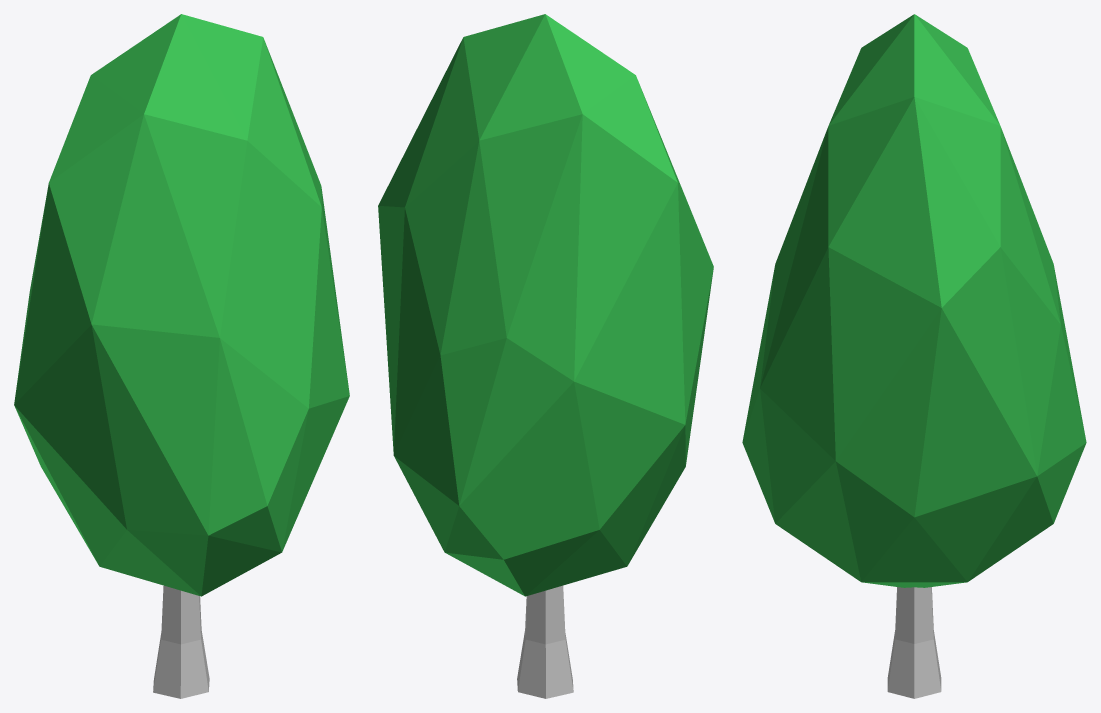
The model's file is tree_1.fbx.
3 renders of one model, left to right at view 1: azimuth 30°, elevation 25°; view 2: azimuth 150°, elevation 25°; view 3: azimuth 270°, elevation 25°, orthographic.
Visible parts, largest first — view 1: bark.000; view 2: bark.000; view 3: bark.000.
Part boxes in pixels (x1,y1,x2,y2): bark.000: [14, 14, 349, 698]; bark.000: [378, 14, 713, 698]; bark.000: [742, 14, 1086, 698].
Size of the model in its own units: 778 by 1624 by 755.
